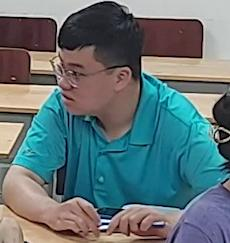Turning_Around: (0, 0, 211, 243)
